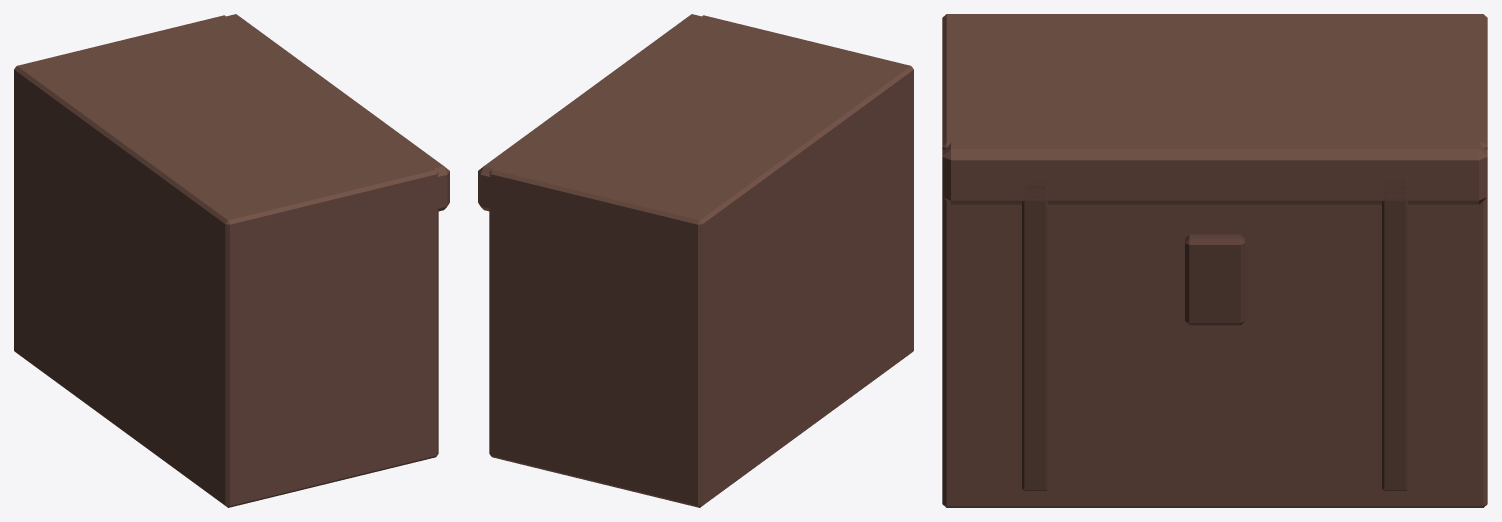
Rendered from coffre_perimetre.glb.
3 renders of one model, left to right at view 1: azimuth 30°, elevation 25°; view 2: azimuth 150°, elevation 25°; view 3: azimuth 270°, elevation 25°, orthographic. The views are drawn at different scales.
Visible parts, largest first — view 1: coffre_perimetre; view 2: coffre_perimetre; view 3: coffre_perimetre.
Boxes of the visible parts, x1,y1,x2,y2 form: coffre_perimetre: (14,14,449,507); coffre_perimetre: (478,14,913,507); coffre_perimetre: (942,14,1487,507).
Size of the model in its own units: 0.7 by 0.85 by 1.15.
Materials: 1 (1 with a texture image).
